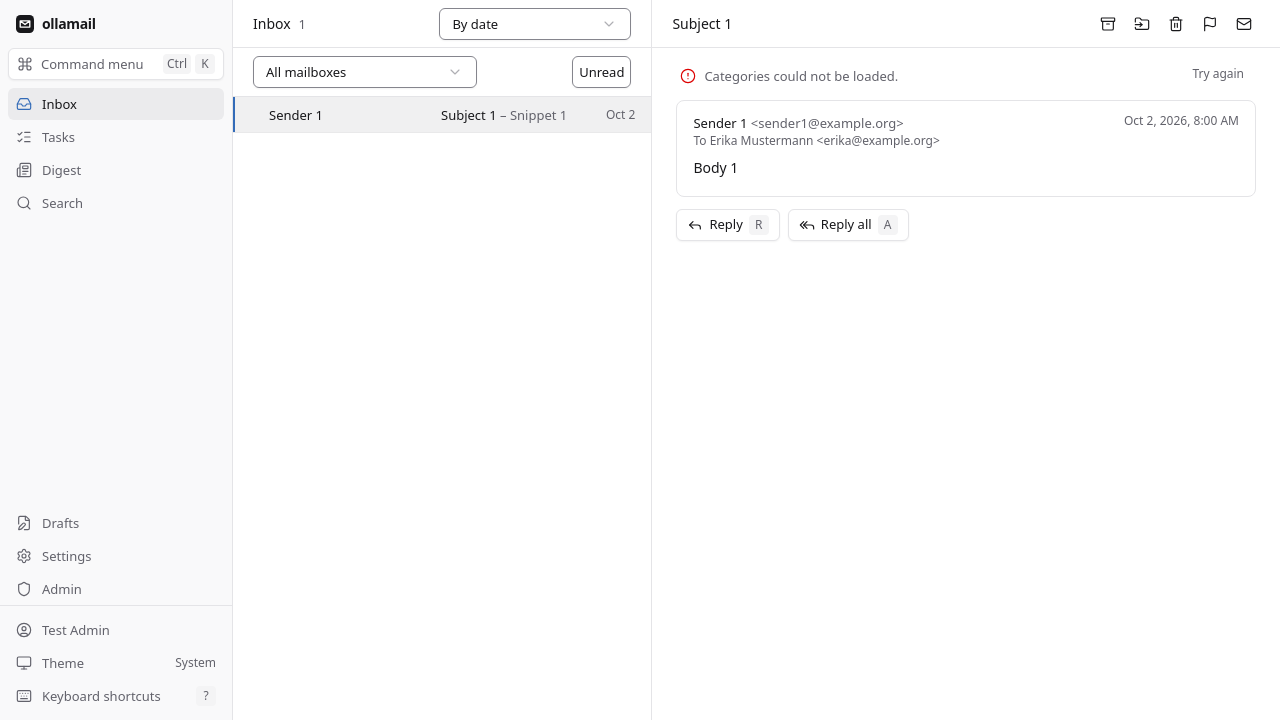
Test: inbox actions (#148) › brings the message back and explains when the server refuses
The image size is (1280, 720).
Expected: the heading "Inbox" is shown, [253,14,291,34]
Click the button named "Archive": click(1108, 24) [1092,8,1124,40]
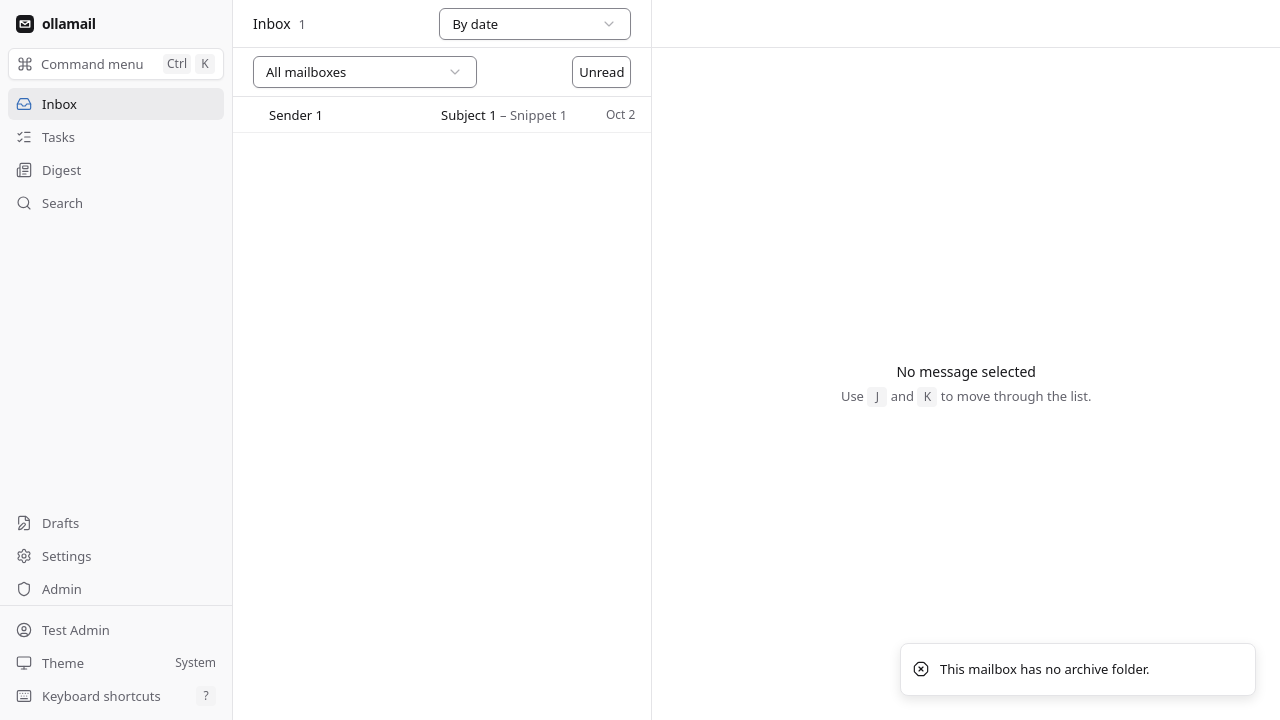
Expected: the text "Sender 1" is shown, [269,106,323,124]
Expected: the text "This mailbox has no archive folder." is shown, [940,660,1150,679]
